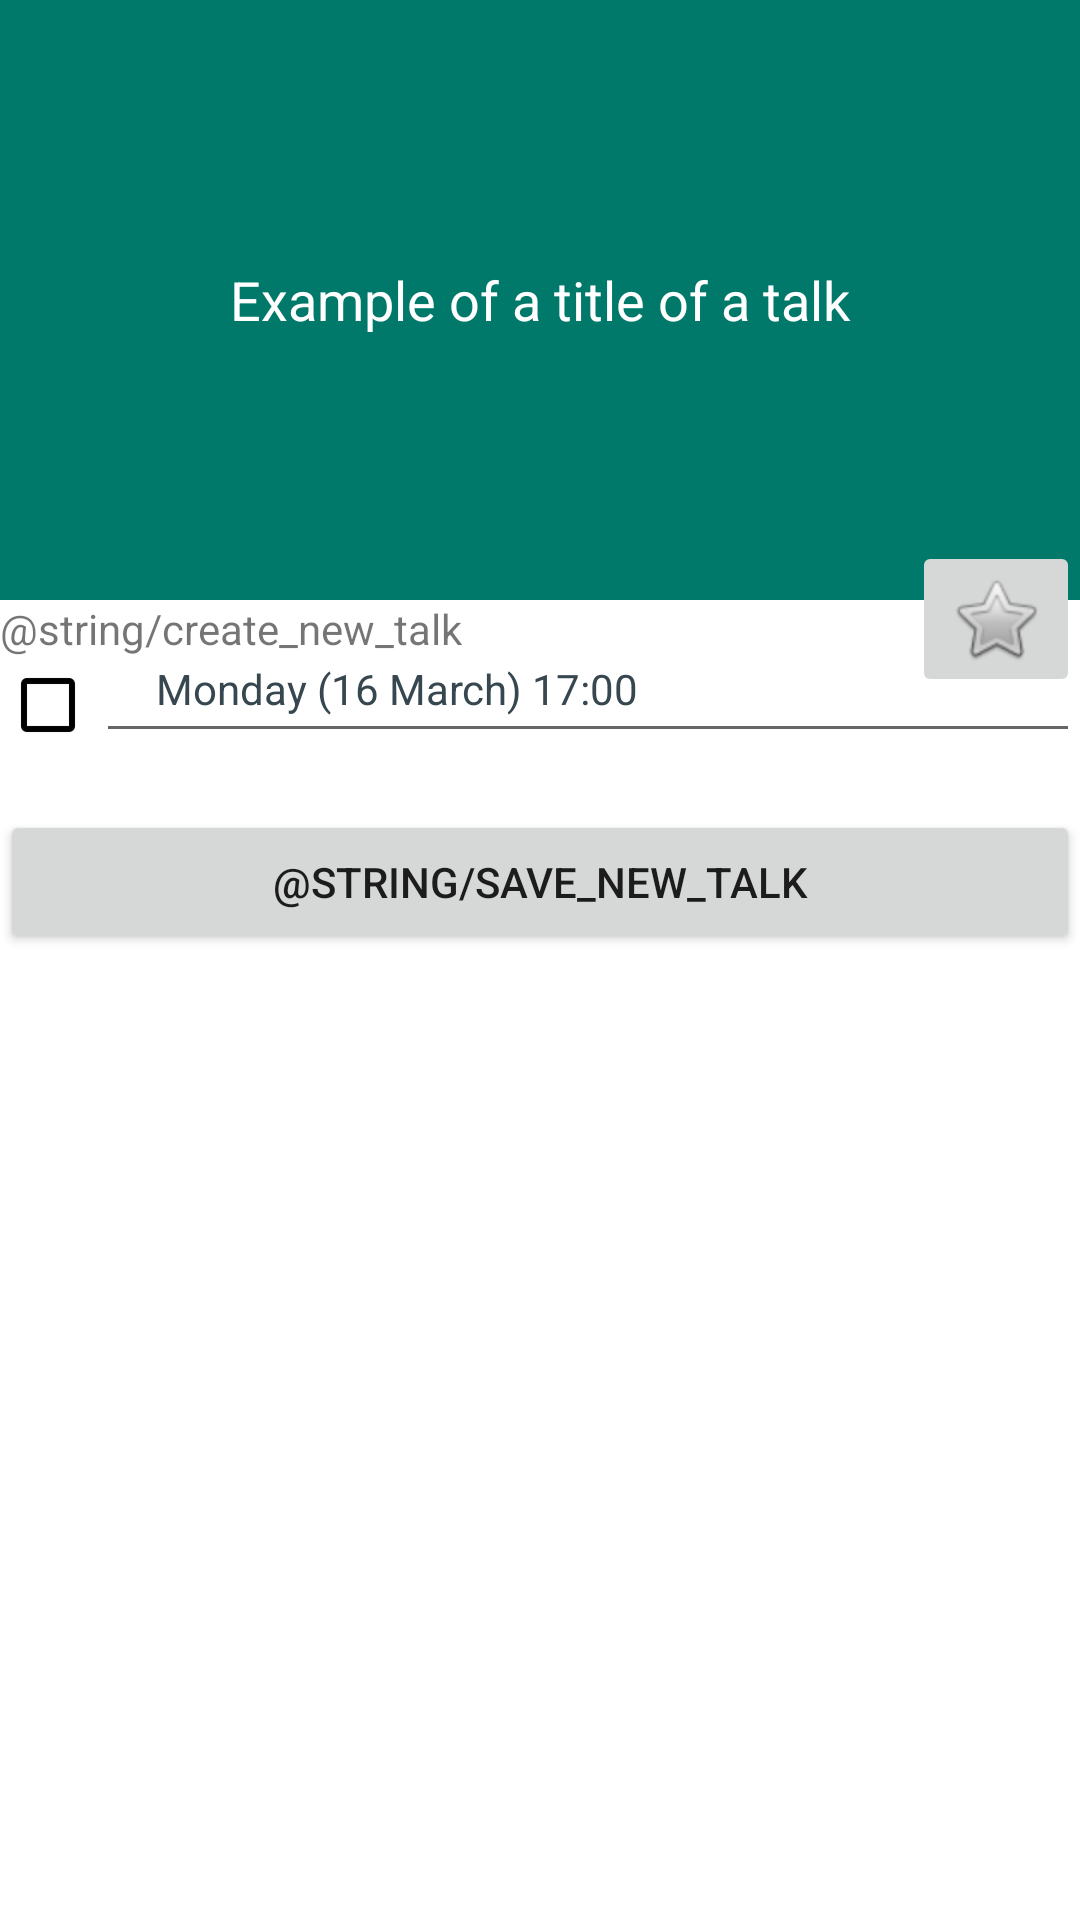

Point at icon controls on the screen. Image size 1080 x 1920, points as (x=x, y=y).
check to on: (x=48, y=705)
star: (x=996, y=619)
